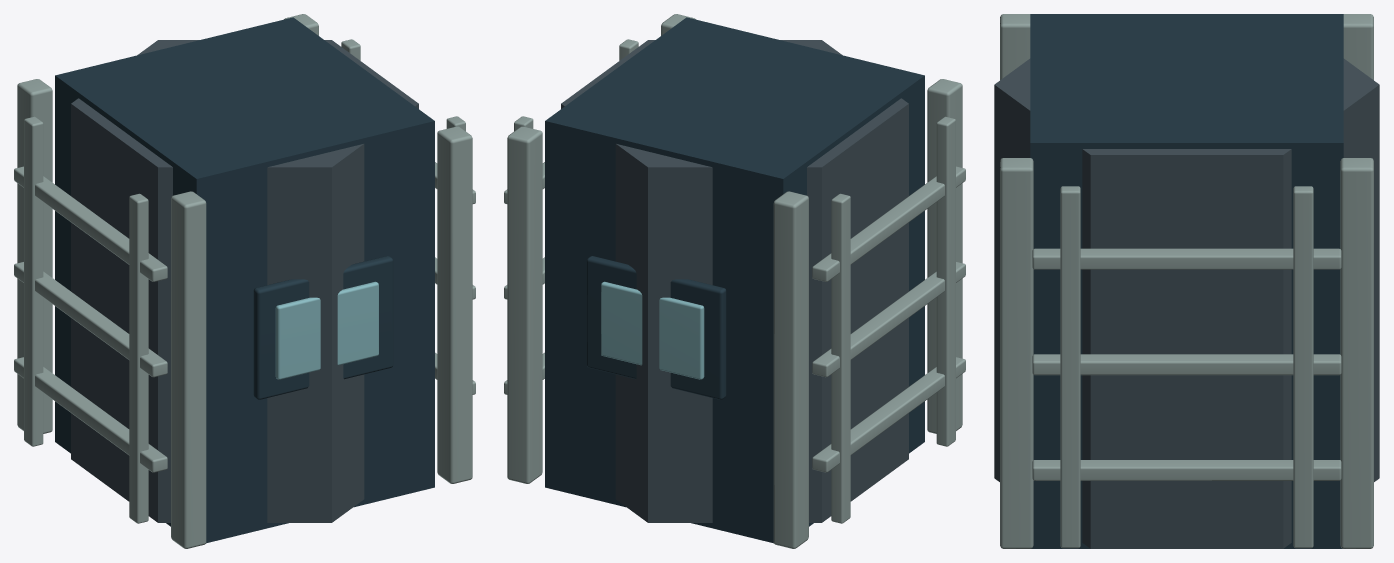
File: receiver-shaft-1.glb
The picture shows the model from 3 angles, left to right: view 1: azimuth 30°, elevation 25°; view 2: azimuth 150°, elevation 25°; view 3: azimuth 270°, elevation 25°; orthographic projection. The views are drawn at different scales.
Parts seen in each view (by area): view 1: receiver_2, receiver_0, receiver_1, receiver_4; view 2: receiver_2, receiver_0, receiver_1, receiver_4; view 3: receiver_0, receiver_2, receiver_1.
Part boxes in pixels (box(x1,y1,x2,y2)): receiver_2: box(55, 17, 434, 543); receiver_0: box(71, 40, 418, 522); receiver_1: box(14, 14, 475, 548); receiver_4: box(275, 281, 378, 379); receiver_2: box(545, 17, 924, 543); receiver_0: box(561, 40, 908, 522); receiver_1: box(504, 14, 965, 548); receiver_4: box(601, 281, 704, 379); receiver_0: box(994, 58, 1379, 548); receiver_2: box(1030, 14, 1343, 548); receiver_1: box(1000, 14, 1373, 548).
Size of the model in its own units: 0.94 by 1 by 0.86.
